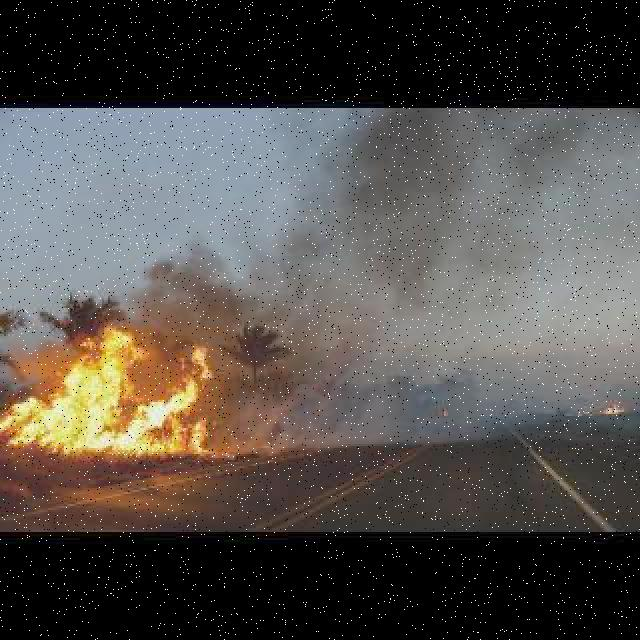fire: (8, 330, 212, 459)
smoke: (223, 112, 640, 447)
